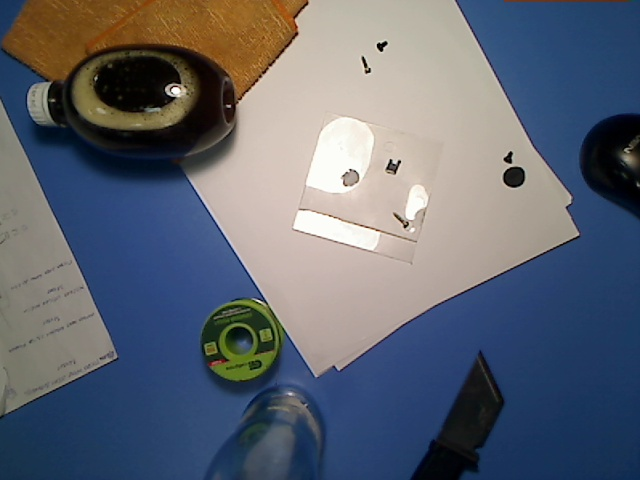plast_bottle: (21, 39, 250, 165)
